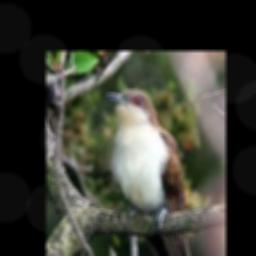Cuckoo: (105, 90, 194, 256)
